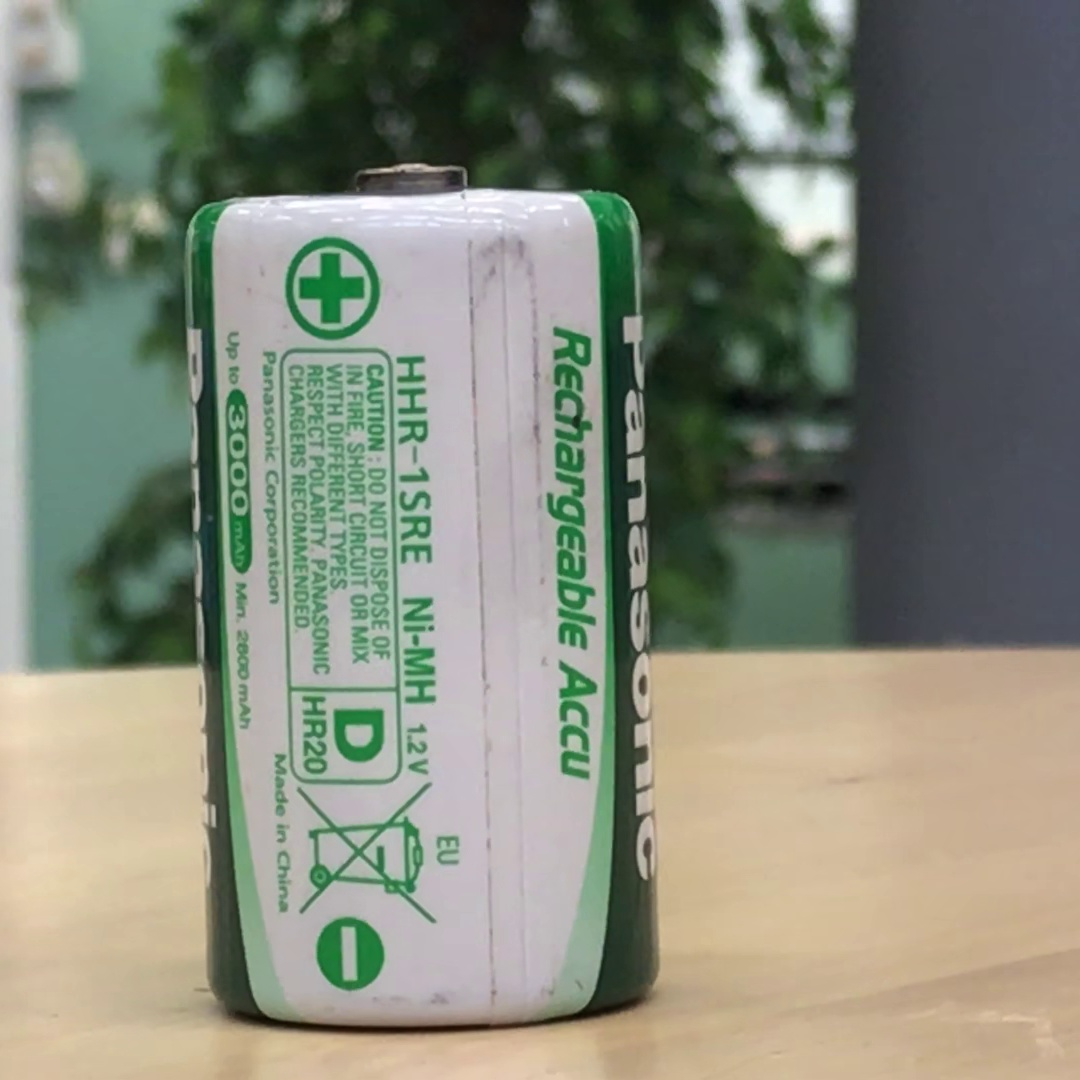keyword: (384, 557, 445, 707), (294, 688, 336, 778)
